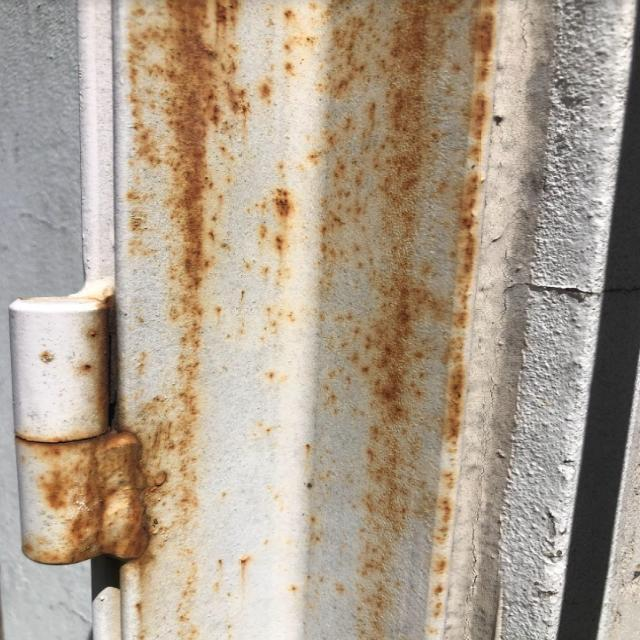Corrosion: (241, 0, 503, 640), (119, 0, 254, 640), (11, 423, 164, 566), (37, 291, 113, 432), (240, 552, 254, 568)
